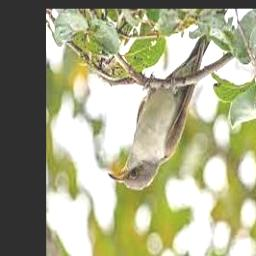Cuckoo: (108, 9, 228, 191)
